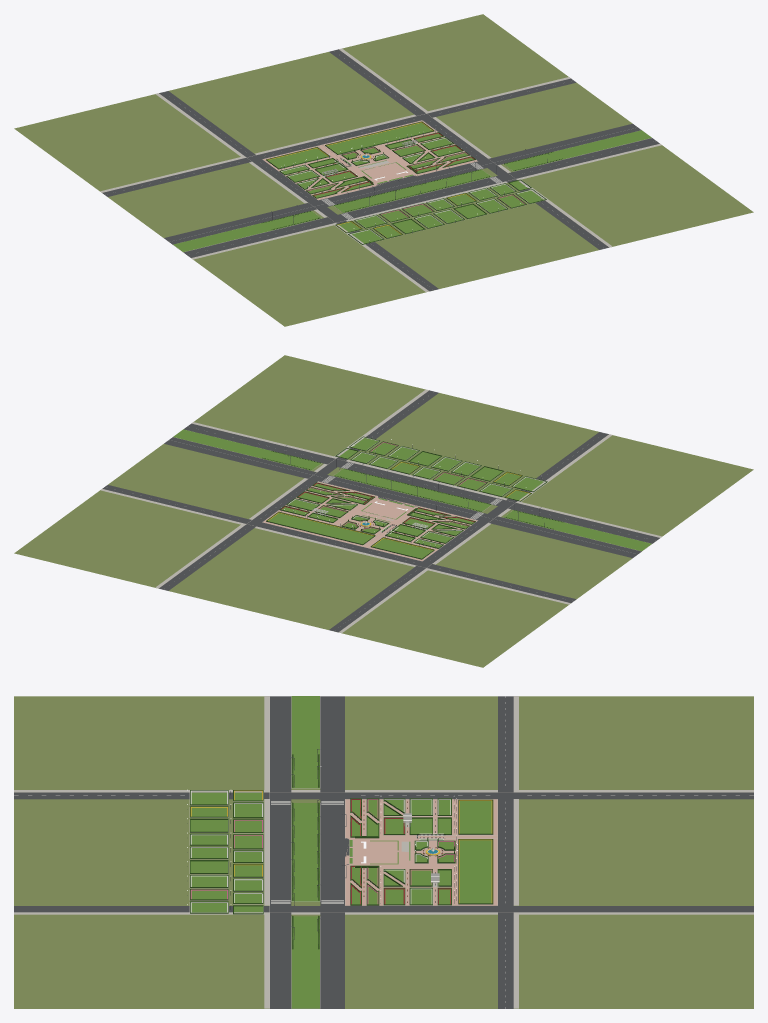
The model's file is site.glb.
3 views of the same model, one above another, from view 1: azimuth 30°, elevation 25°; view 2: azimuth 150°, elevation 25°; view 3: azimuth 270°, elevation 25° (orthographic). The views are drawn at different scales.
Parts seen in each view (by area): view 1: Site; view 2: Site; view 3: Site.
Part boxes in pixels (box(x1,y1,x2,y2)): Site: box(14, 14, 753, 326); Site: box(14, 355, 753, 667); Site: box(14, 696, 753, 1008).
Bounding box in the file's own units: 480 × 12.54 × 480.
